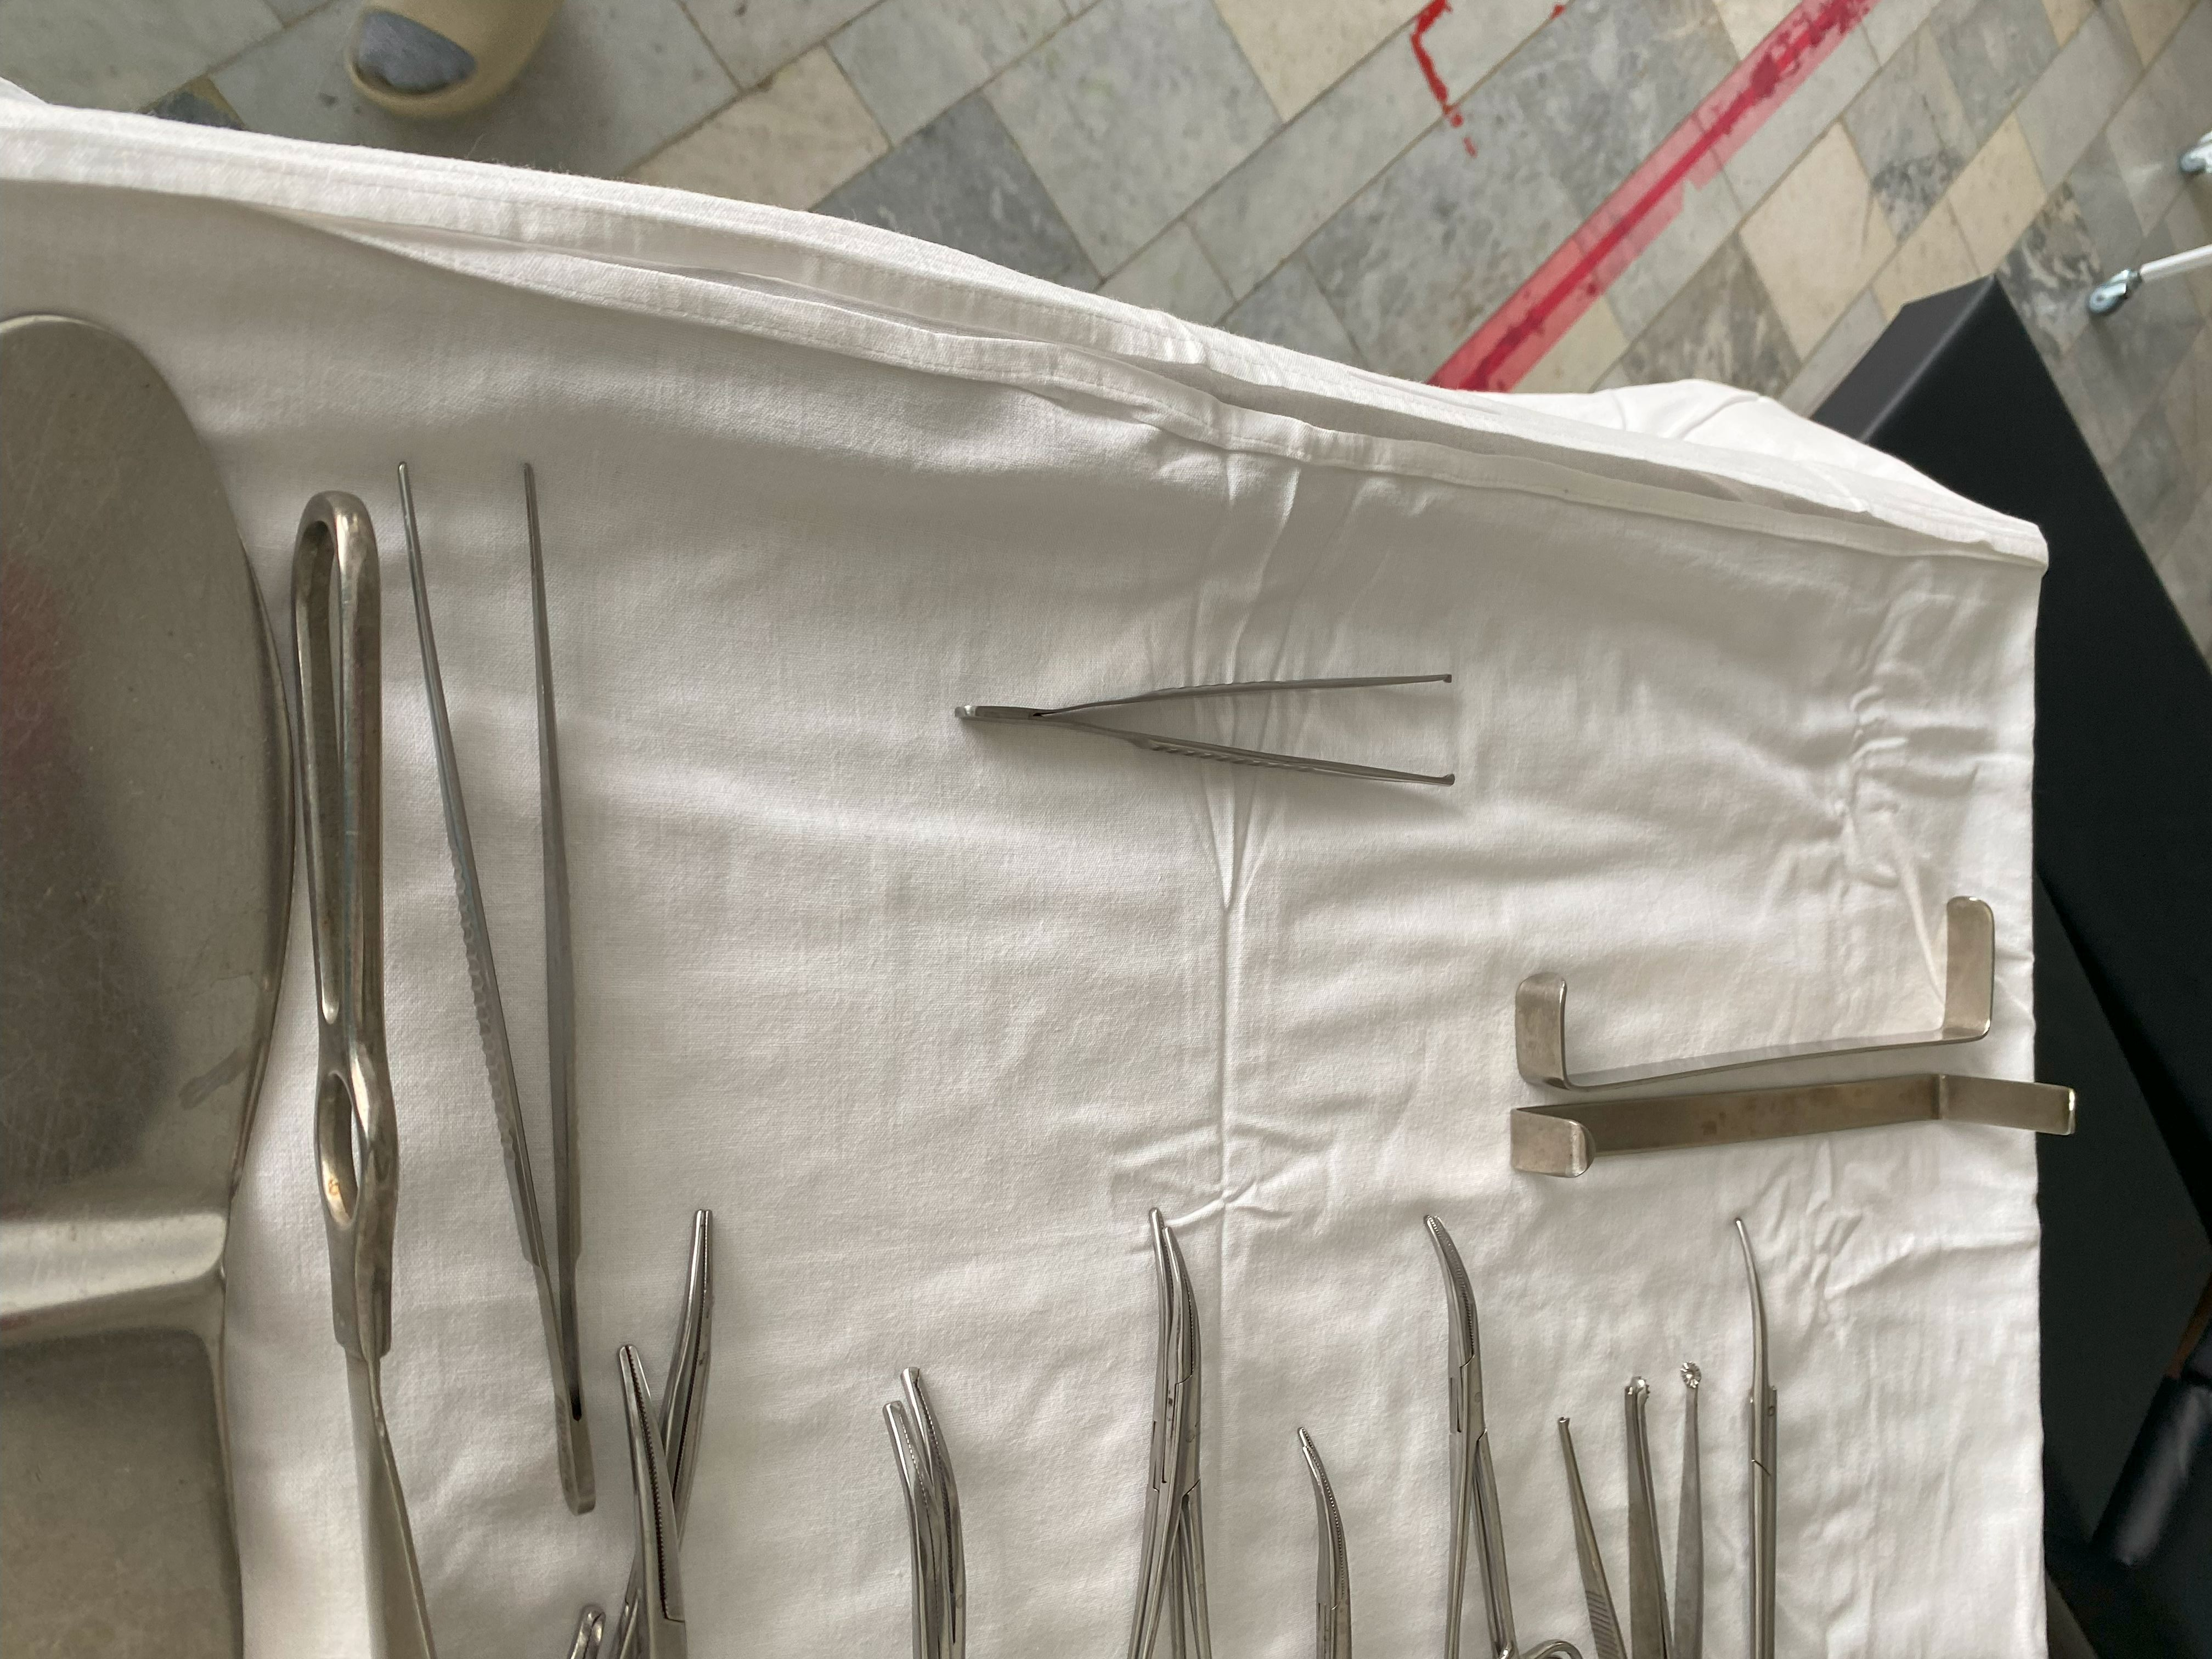clamp: (1425, 1215, 1519, 1659), (617, 1344, 688, 1659)
tweezers: (397, 464, 594, 1513), (954, 673, 1456, 788)
